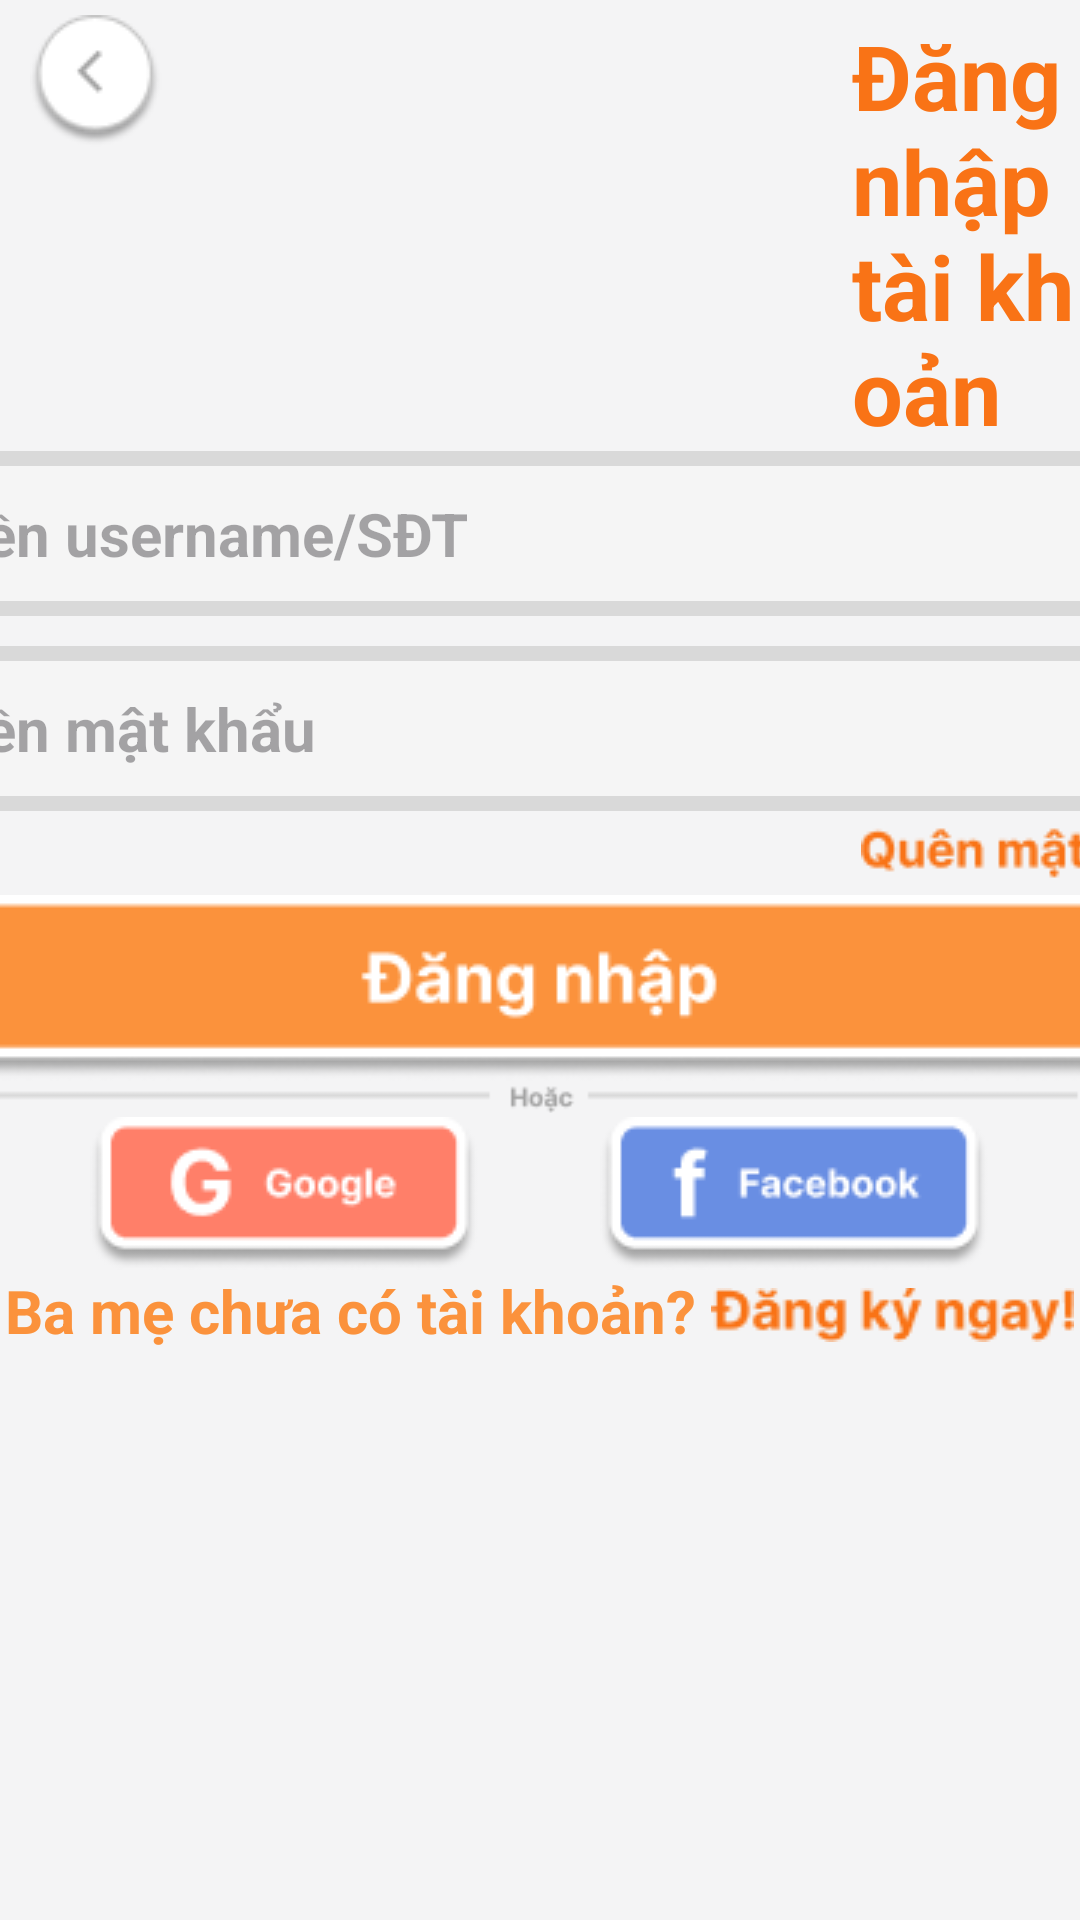

Named icons in this screenshot (1080 x 1920) and their bounding boxes, {"x1": x1, "y1": y1, "x2": x2, "y2": y2}:
exit: {"x1": 33, "y1": 15, "x2": 158, "y2": 142}
